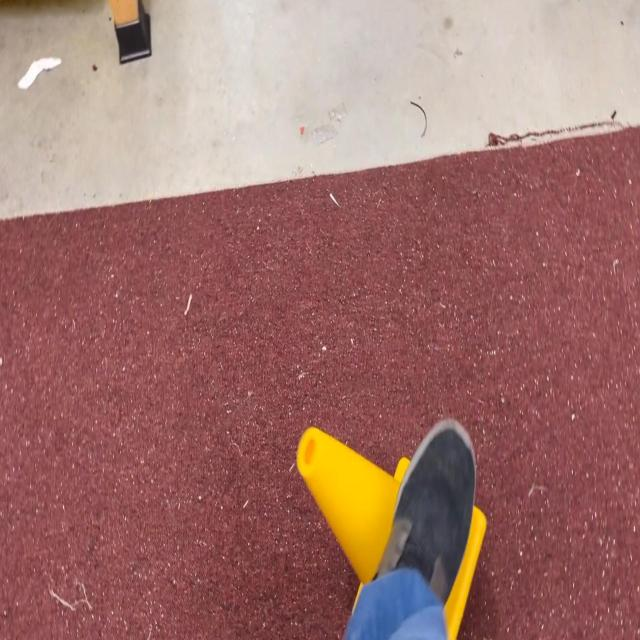frc_cone: (295, 426, 488, 639)
